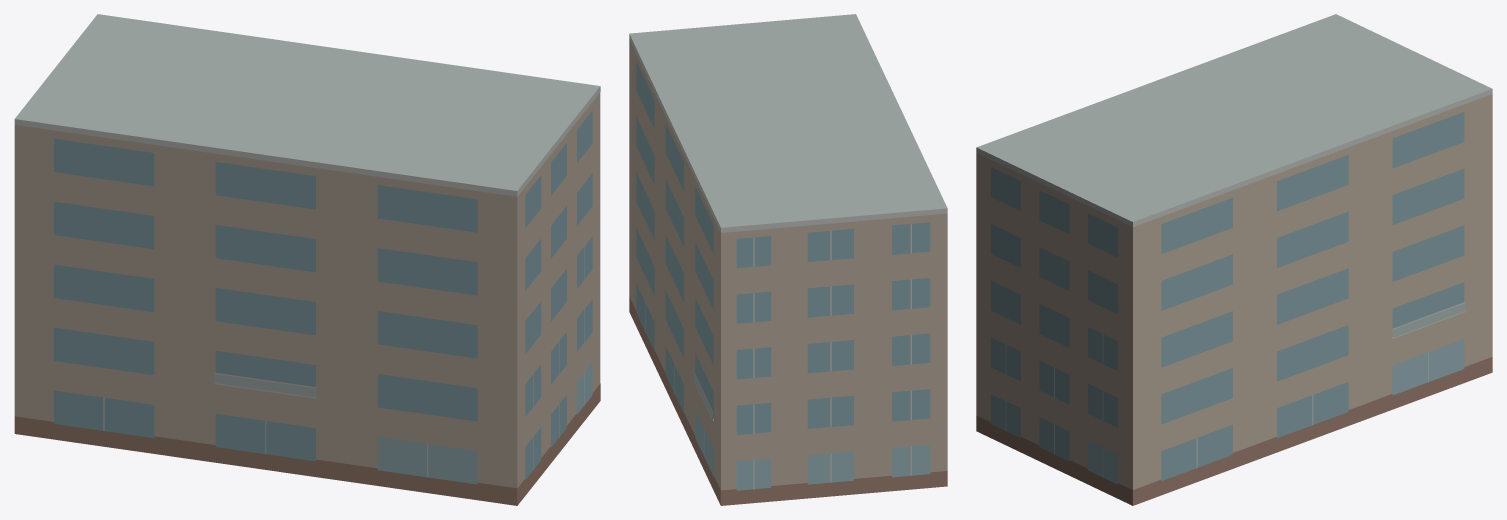
Rendered from survey-upis-32626299.glb.
3 views of the same model, side by side, from view 1: azimuth 30°, elevation 25°; view 2: azimuth 150°, elevation 25°; view 3: azimuth 270°, elevation 25° (orthographic). The views are drawn at different scales.
Visible parts, largest first — view 1: survey-upis-32626299.tmp; view 2: survey-upis-32626299.tmp; view 3: survey-upis-32626299.tmp.
Part boxes in pixels (x1,y1,x2,y2): survey-upis-32626299.tmp: [14, 14, 600, 505]; survey-upis-32626299.tmp: [629, 14, 947, 505]; survey-upis-32626299.tmp: [976, 14, 1492, 505].
Size of the model in its own units: 20.77 by 13.2 by 21.77.
